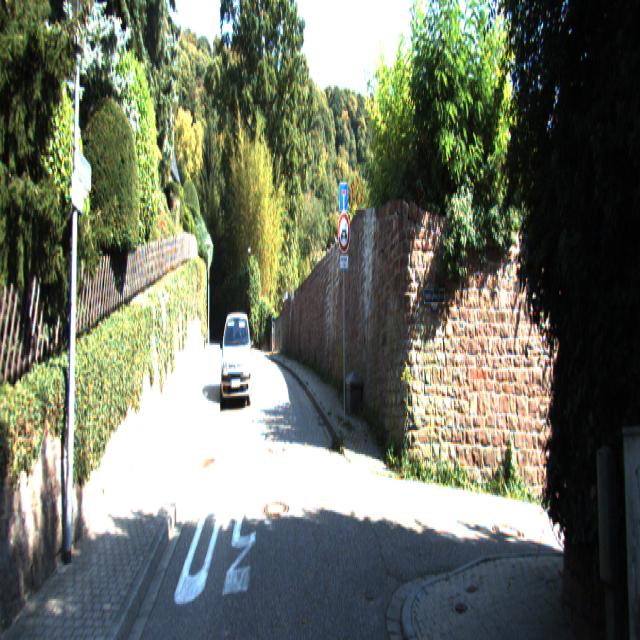Car: (220, 306, 252, 410), (228, 316, 250, 370)
